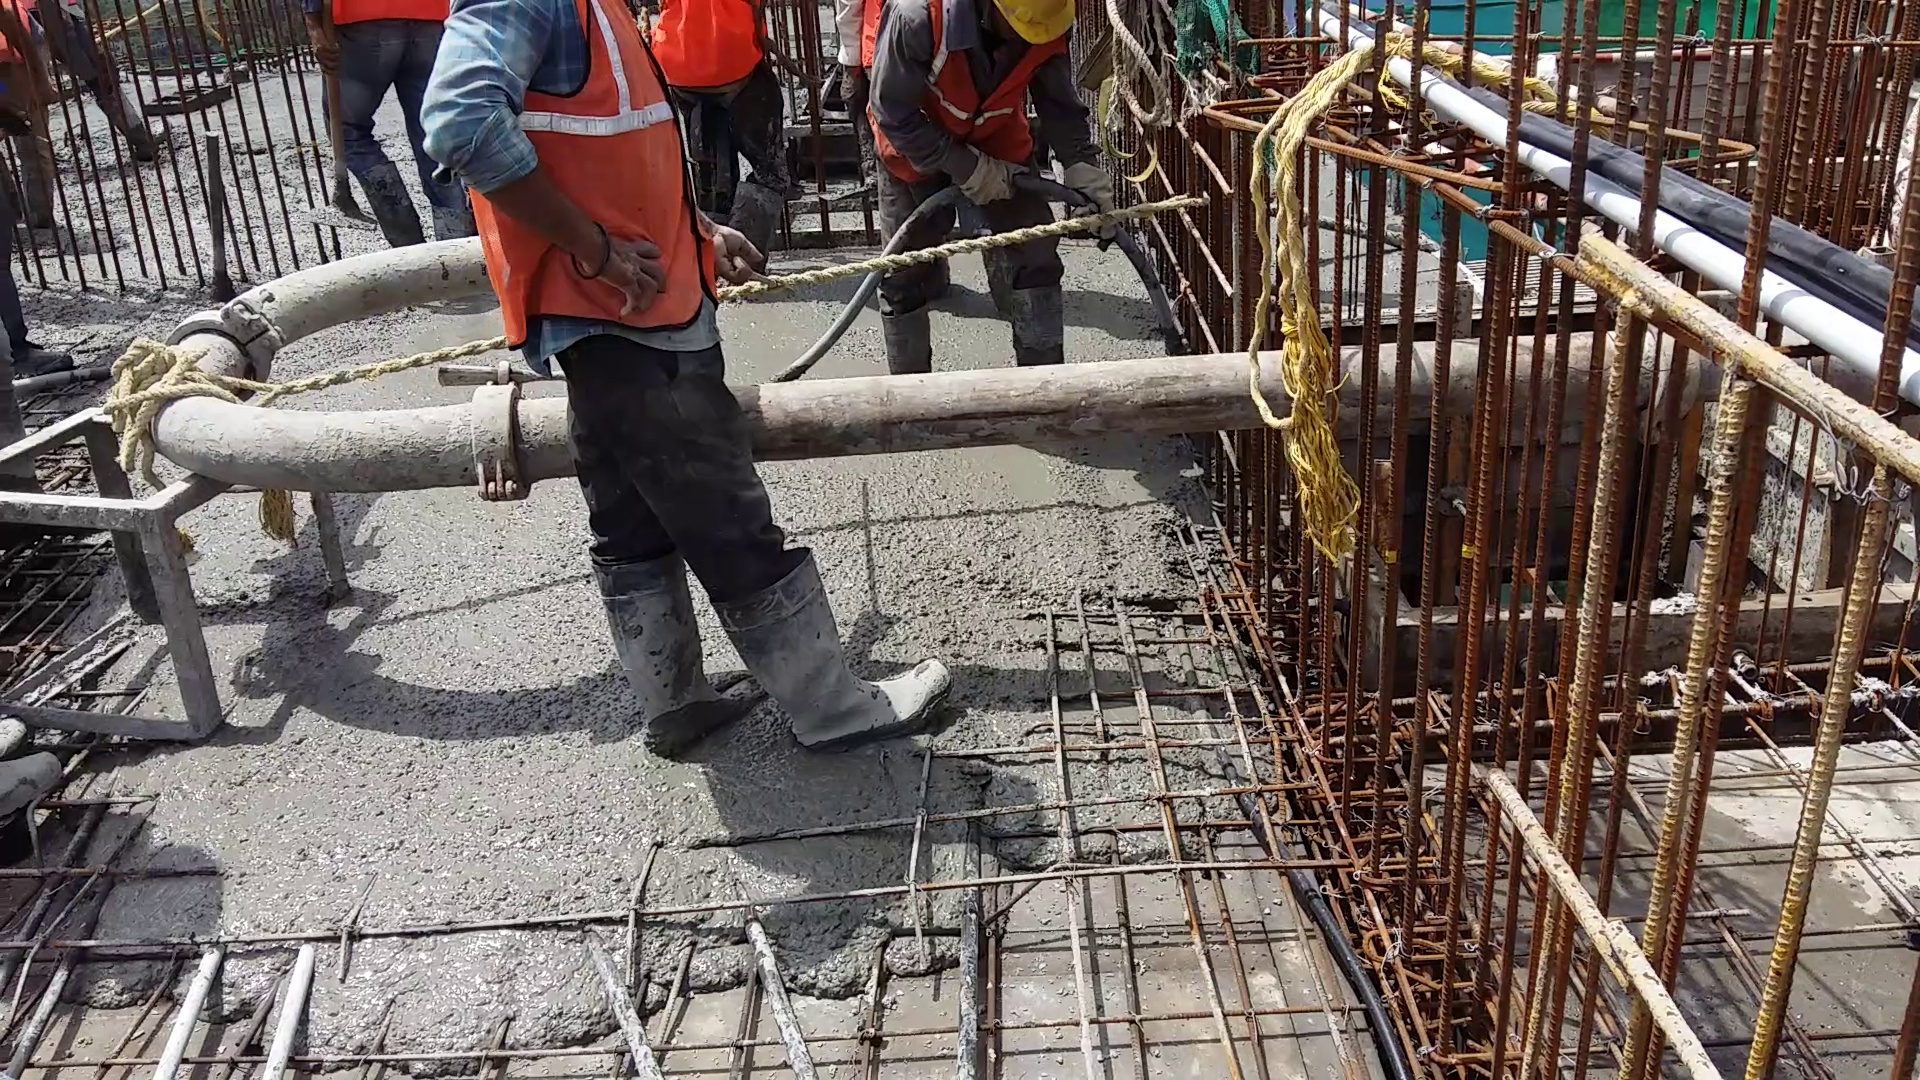SAFE: (861, 1, 1073, 189)
